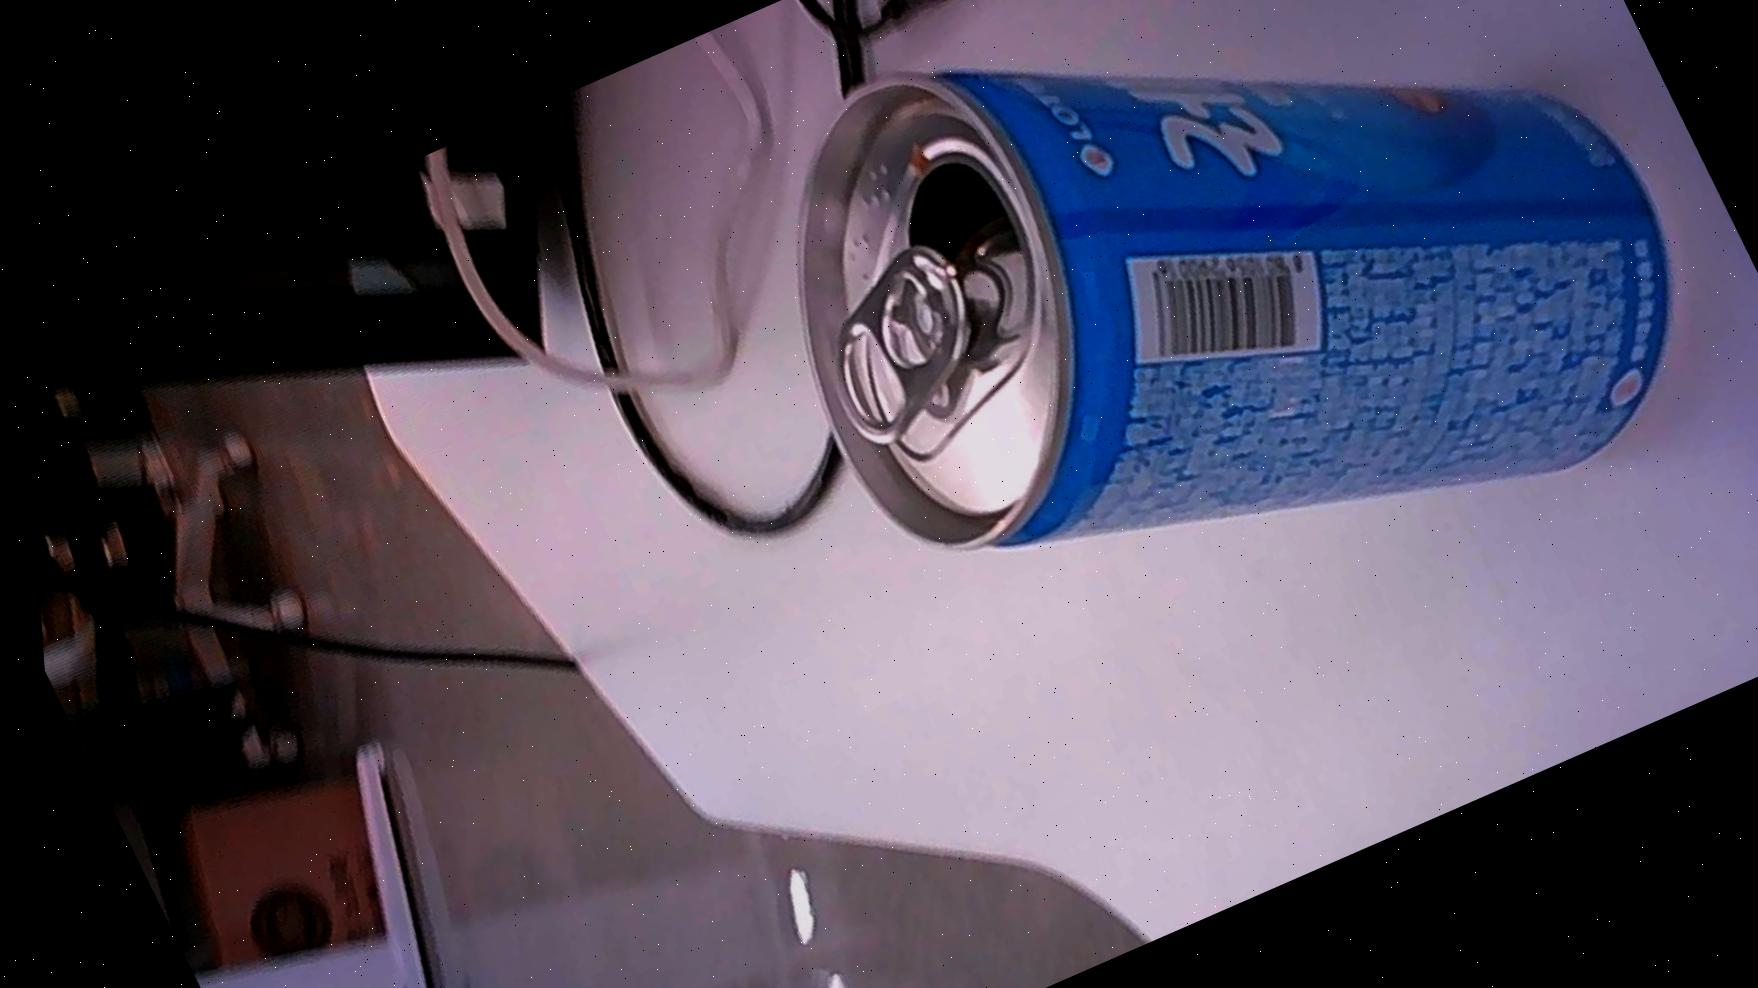letsbe: (683, 0, 1756, 725)
